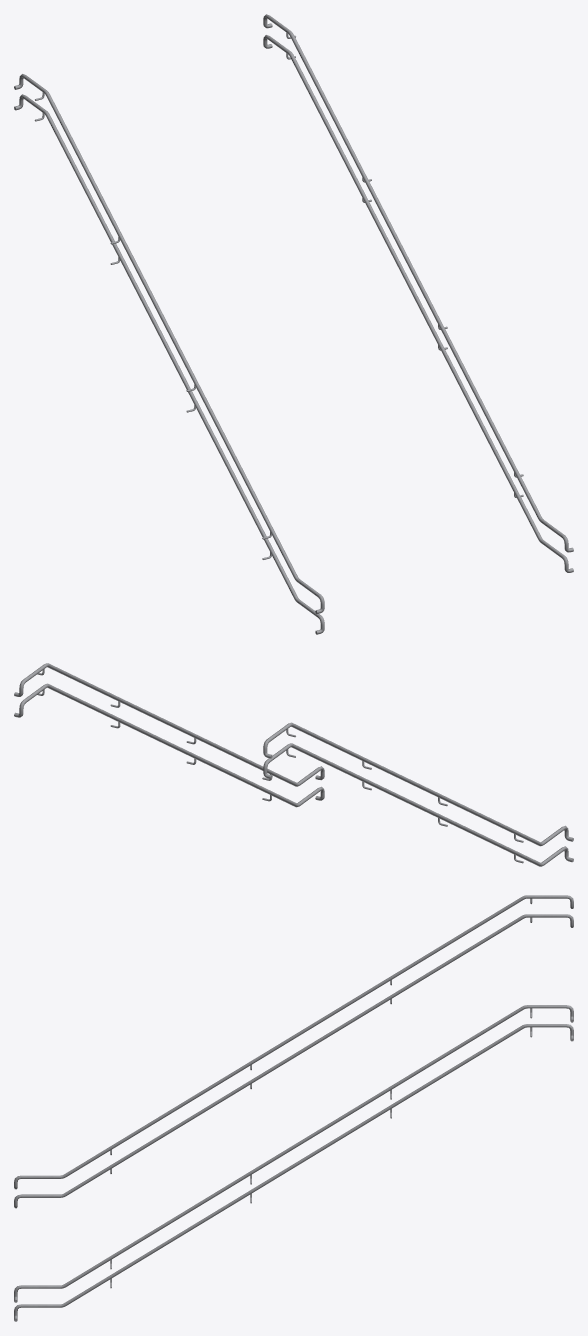
Rendered from gteki_ik_stair_n17_r174_t260_w2436_rails_wall.glb.
3 renders of one model, top to bottom at view 1: azimuth 30°, elevation 25°; view 2: azimuth 150°, elevation 25°; view 3: azimuth 270°, elevation 25°, orthographic. The views are drawn at different scales.
Parts seen in each view (by area): view 1: VIS_handrails; view 2: VIS_handrails, VIS_rail_supports; view 3: VIS_handrails.
Boxes of the visible parts, <box> form: VIS_handrails: <box>14,14,573,634</box>; VIS_handrails: <box>14,663,573,866</box>; VIS_rail_supports: <box>37,669,523,863</box>; VIS_handrails: <box>14,895,573,1321</box>.
Bounding box in the file's own units: 2.66 × 3.31 × 5.36.
1 material, 1 textured.
